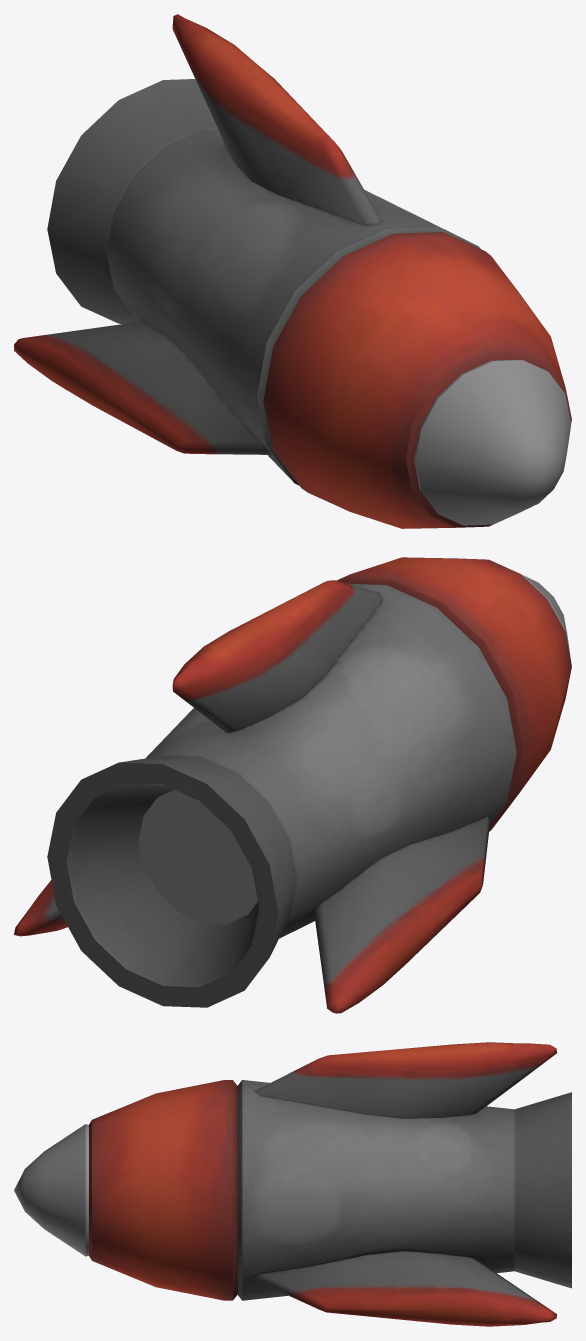
File: SmallMissile.fbx
3 renders of one model, top to bottom at view 1: azimuth 30°, elevation 25°; view 2: azimuth 150°, elevation 25°; view 3: azimuth 270°, elevation 25°, orthographic. The views are drawn at different scales.
Visible parts, largest first — view 1: SM_Missile_Small.001; view 2: SM_Missile_Small.001; view 3: SM_Missile_Small.001.
Boxes of the visible parts, x1=… form: SM_Missile_Small.001: x1=14, y1=14, x2=571, y2=528; SM_Missile_Small.001: x1=14, y1=557, x2=571, y2=1013; SM_Missile_Small.001: x1=14, y1=1042, x2=571, y2=1326.
Size of the model in its own units: 2917 by 2789 by 5701.
Materials: 2 (2 with a texture image).
